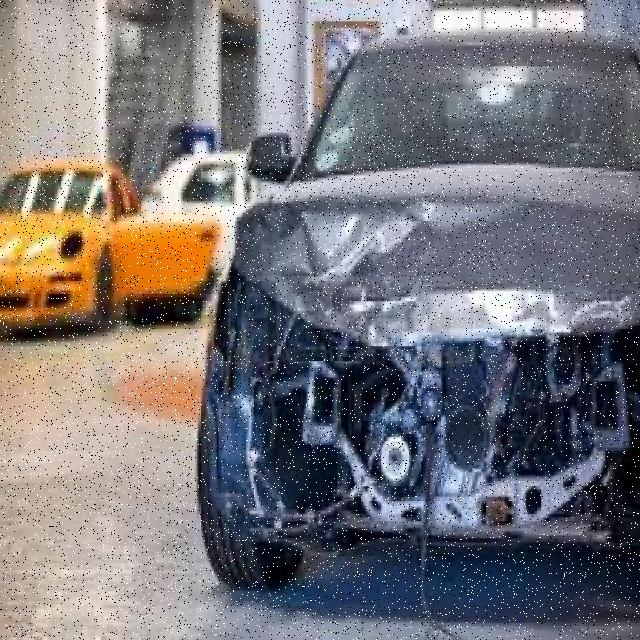damage: (219, 201, 636, 548)
